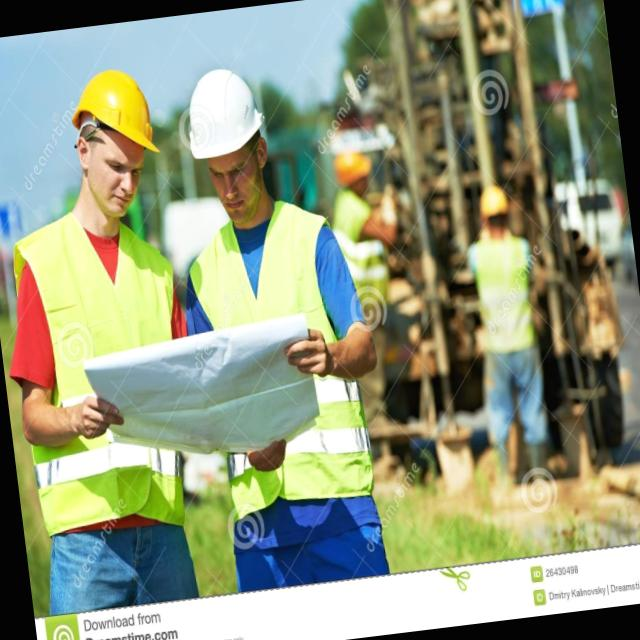helmet: (60, 59, 161, 170), (174, 64, 270, 158)
no-goggles: (70, 137, 162, 192), (184, 144, 270, 192)
vest: (184, 211, 380, 514), (23, 222, 190, 540)
